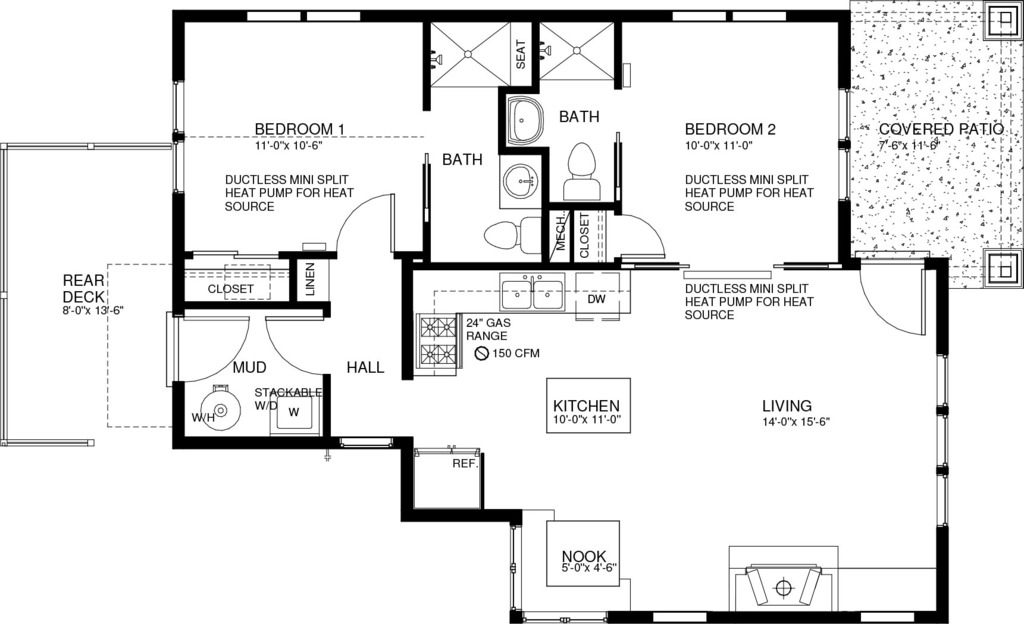door: (846, 244, 929, 337), (159, 308, 253, 383), (337, 193, 395, 254), (612, 212, 676, 261), (262, 314, 313, 371)
large_sink: (478, 214, 549, 257), (558, 140, 602, 207)
small_sink: (495, 90, 546, 148), (492, 154, 540, 209)
twin_sink: (489, 266, 577, 322)
window: (932, 355, 953, 522), (833, 88, 858, 208), (241, 6, 362, 28), (672, 1, 731, 28), (734, 3, 790, 28), (171, 73, 183, 189)
